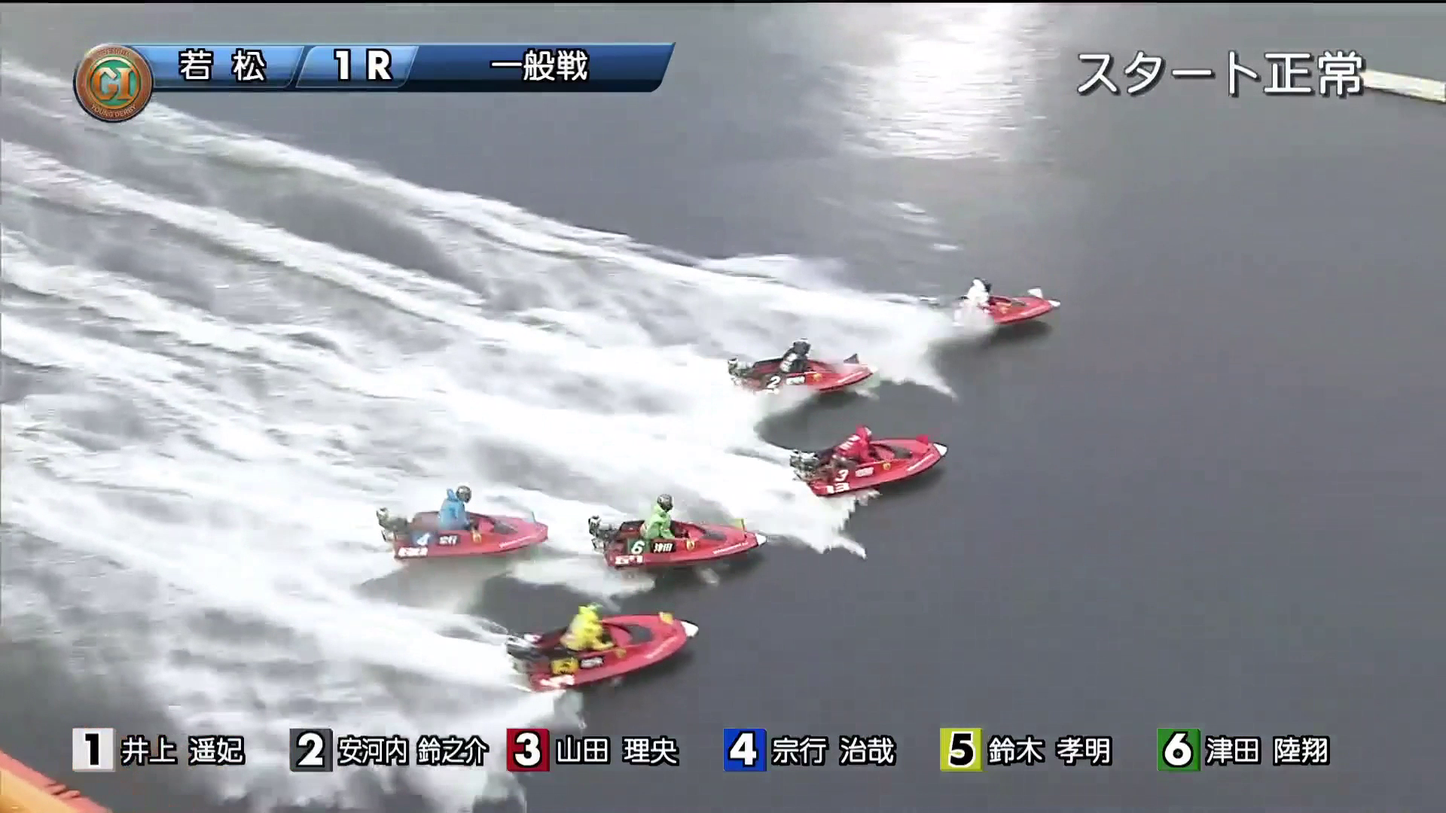１号艇: (948, 283, 1086, 336)
２号艇: (739, 342, 867, 402)
３号艇: (818, 437, 959, 483)
４号艇: (617, 505, 738, 570)
５号艇: (393, 510, 517, 565)
６号艇: (572, 626, 671, 682)
